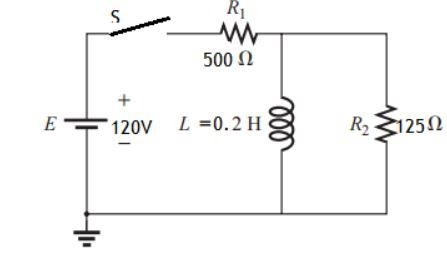inductor: (267, 85, 298, 159)
